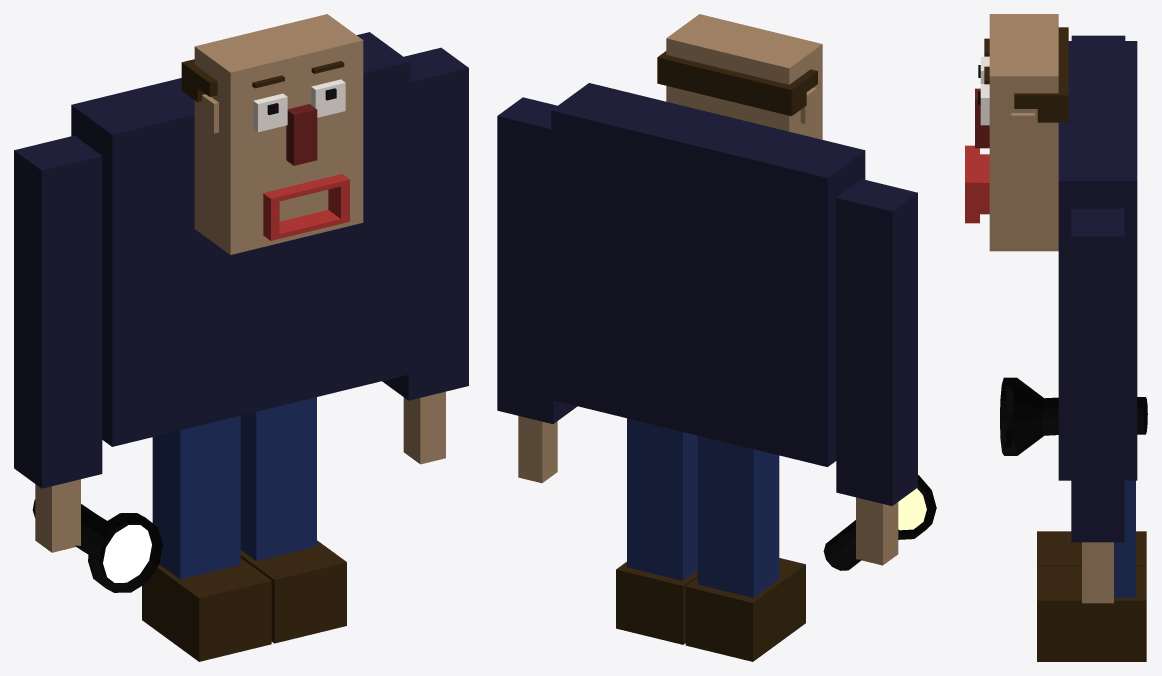
File: Man.glb
3 views of the same model, side by side, from view 1: azimuth 30°, elevation 25°; view 2: azimuth 150°, elevation 25°; view 3: azimuth 270°, elevation 25° (orthographic). The views are drawn at different scales.
Parts seen in each view (by area): view 1: Cube.001, Cube.004, Cube, Cube.002, Cube.007, Cube.006, Cube.009, Cube.008, Cylinder, Cube.021, Cube.005, Cube.003 (+4 smaller); view 2: Cube.001, Cube.004, Cube.002, Cube.007, Cube.006, Cube, Cube.009, Cube.015, Cube.008, Cylinder, Cube.005, Cube.003; view 3: Cube.001, Cube.002, Cube, Cube.008, Cylinder, Cube.015, Cube.003, Cube.006, Cube.009, Cube.021, Cube.017, Cube.010 (+2 smaller).
Part boxes in pixels (<box>): Cube.001: <box>71,32,410,446</box>; Cube.004: <box>14,135,102,488</box>; Cube: <box>194,14,363,254</box>; Cube.002: <box>382,47,468,400</box>; Cube.007: <box>152,415,240,579</box>; Cube.006: <box>240,397,316,560</box>; Cube.009: <box>142,558,271,661</box>; Cube.008: <box>240,540,346,643</box>; Cylinder: <box>32,499,162,592</box>; Cube.021: <box>263,174,349,240</box>; Cube.005: <box>35,479,80,552</box>; Cube.003: <box>403,391,445,464</box>; Cube.001: <box>551,83,865,466</box>; Cube.004: <box>836,179,917,505</box>; Cube.002: <box>497,97,577,423</box>; Cube.007: <box>697,435,779,597</box>; Cube.006: <box>627,418,697,580</box>; Cube: <box>666,14,822,139</box>; Cube.009: <box>685,558,805,661</box>; Cube.015: <box>657,51,817,116</box>; Cube.008: <box>616,562,697,644</box>; Cylinder: <box>823,475,936,570</box>; Cube.005: <box>856,497,898,565</box>; Cube.003: <box>518,416,557,483</box>; Cube.001: <box>1058,41,1137,480</box>; Cube.002: <box>1071,208,1124,542</box>; Cube: <box>989,14,1058,251</box>; Cube.008: <box>1037,566,1146,661</box>; Cylinder: <box>1000,377,1147,455</box>; Cube.015: <box>1014,27,1068,122</box>; Cube.003: <box>1082,542,1113,603</box>; Cube.006: <box>1114,480,1135,597</box>; Cube.009: <box>1037,531,1146,566</box>; Cube.021: <box>965,145,989,223</box>; Cube.017: <box>1011,113,1034,143</box>; Cube.010: <box>975,88,989,148</box>.
Bounding box in the file's own units: 2.86 × 3.88 × 1.1.
